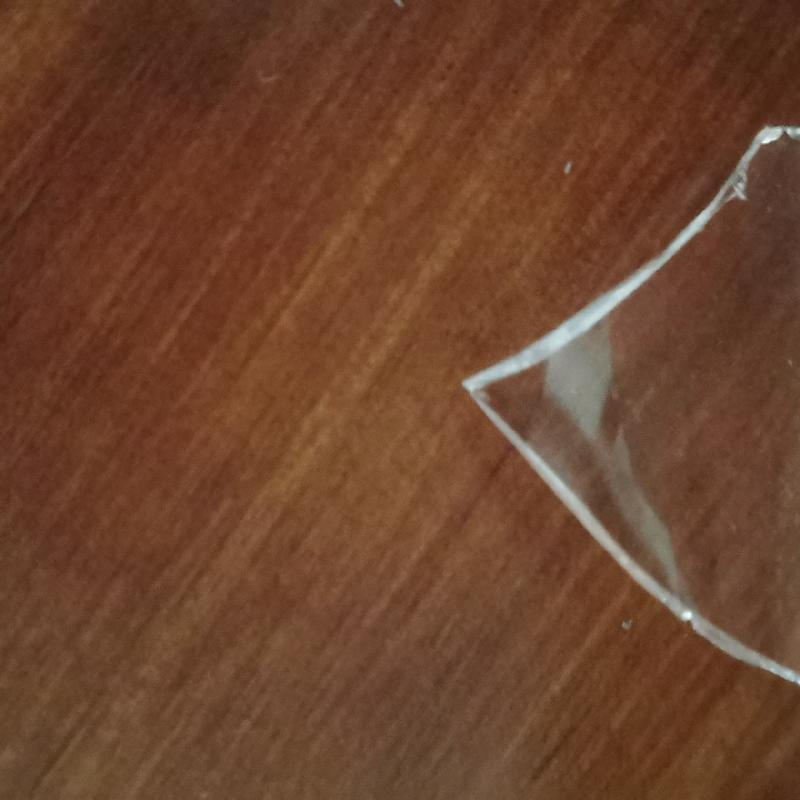glass: (457, 118, 800, 694)
